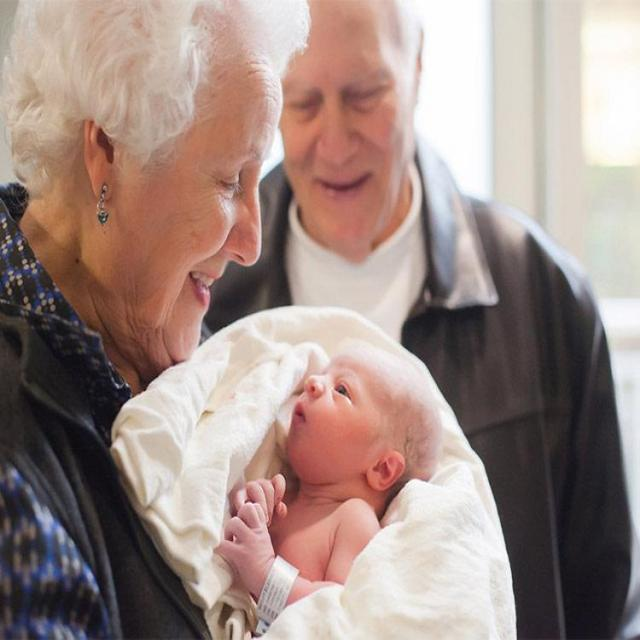child: (231, 335, 453, 631)
